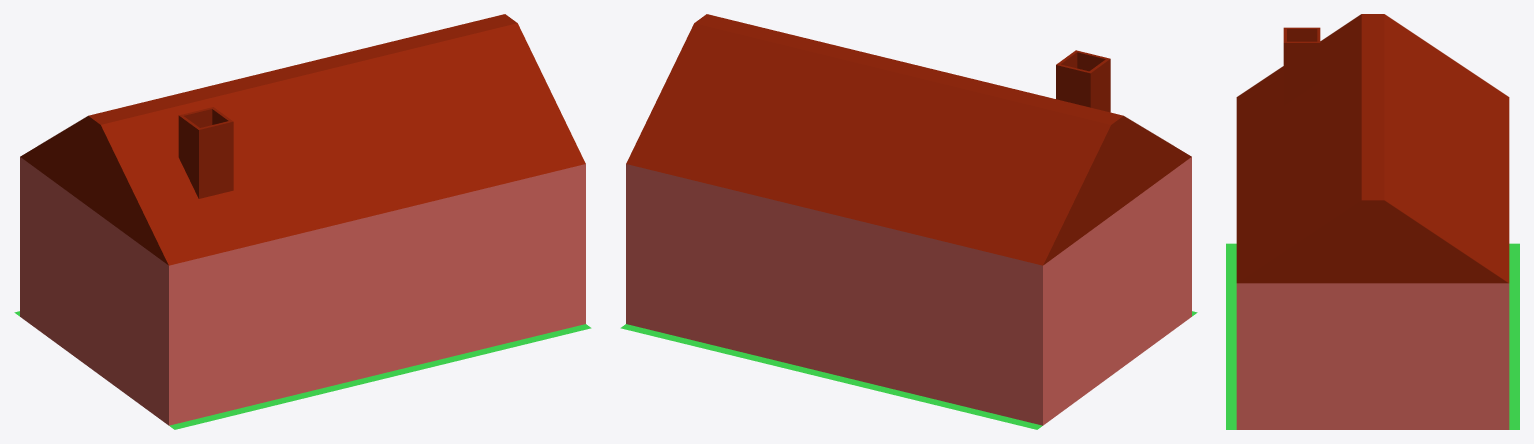
The model's file is easy_house3x2.fbx.
The picture shows the model from 3 angles, left to right: view 1: azimuth 30°, elevation 25°; view 2: azimuth 150°, elevation 25°; view 3: azimuth 270°, elevation 25°; orthographic projection. The views are drawn at different scales.
Visible parts, largest first — view 1: House3x2; view 2: House3x2; view 3: House3x2.
Boxes of the visible parts, bbox=[...] form: House3x2: bbox=[14, 14, 591, 429]; House3x2: bbox=[620, 14, 1197, 429]; House3x2: bbox=[1226, 14, 1519, 429].
Size of the model in its own units: 3000 by 1810 by 2000.
